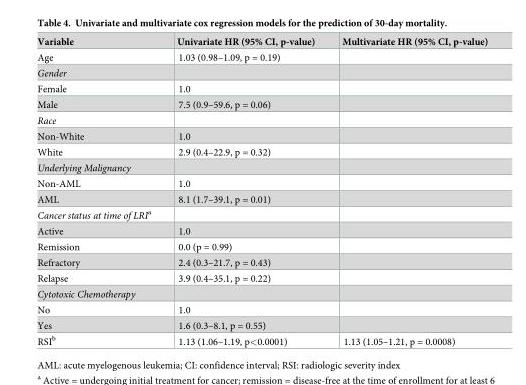table: (36, 36, 487, 346)
table column: (163, 36, 327, 346), (327, 36, 487, 346), (36, 36, 163, 346)
table column header: (36, 36, 487, 49)
table projected row header: (36, 158, 487, 176), (36, 64, 487, 81), (36, 111, 487, 128), (36, 206, 487, 223), (36, 285, 487, 302)
table row: (36, 158, 487, 176), (36, 64, 487, 81), (36, 111, 487, 128), (36, 206, 487, 223), (36, 285, 487, 302), (36, 128, 487, 144), (36, 238, 487, 254), (36, 254, 487, 270), (36, 49, 487, 64), (36, 81, 487, 96), (36, 96, 487, 111), (36, 176, 487, 191), (36, 191, 487, 206), (36, 223, 487, 238), (36, 270, 487, 285), (36, 302, 487, 317), (36, 317, 487, 332), (36, 144, 487, 158), (36, 332, 487, 346), (36, 36, 487, 49)
